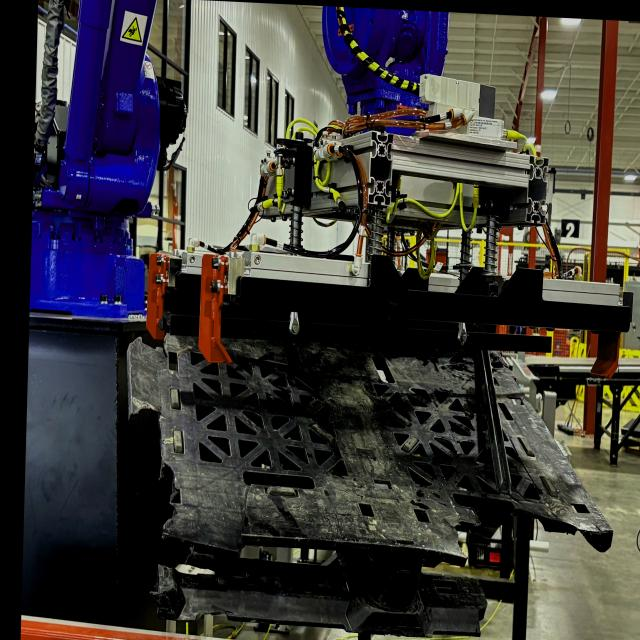igps: (123, 296, 618, 640)
